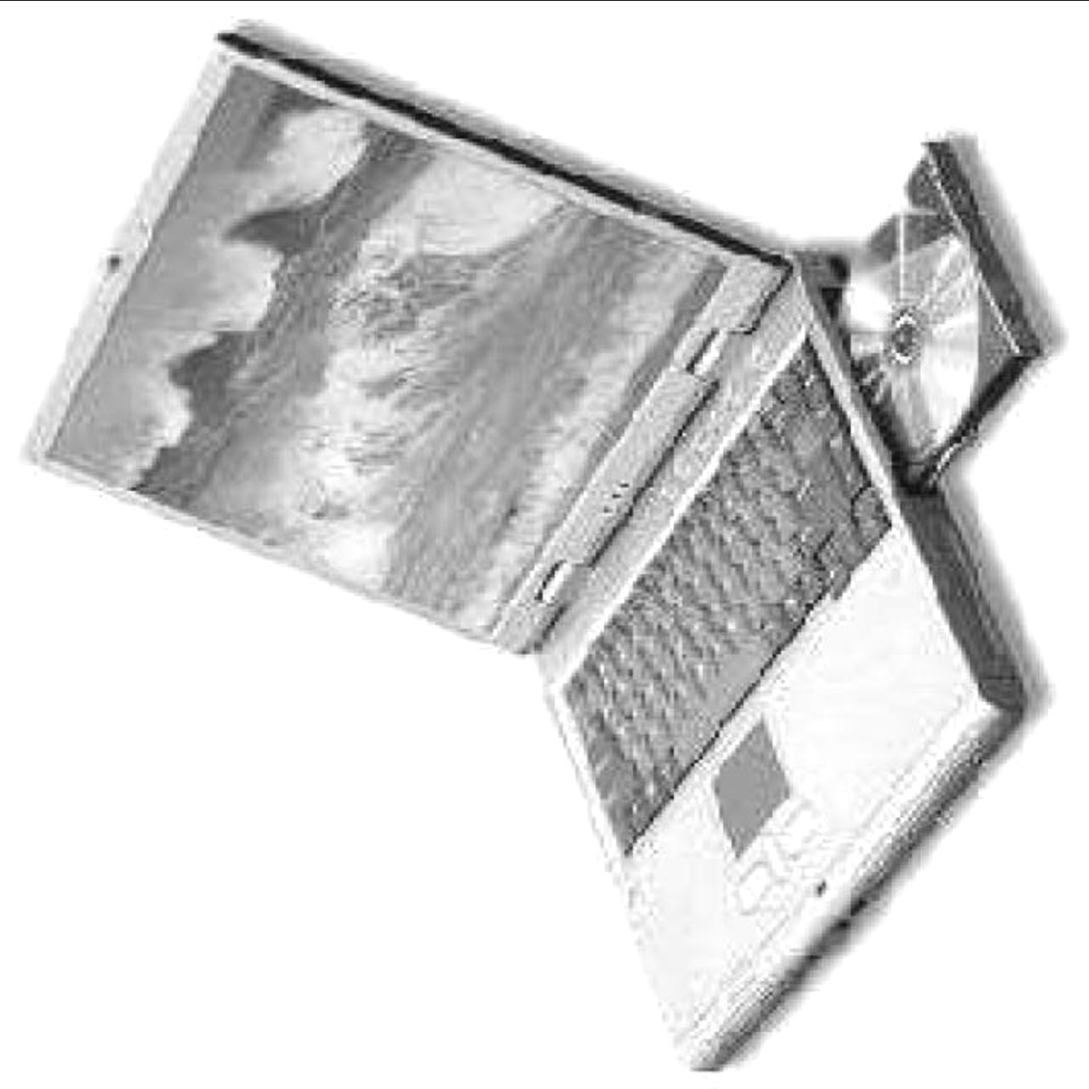laptop: (32, 19, 1029, 1057)
